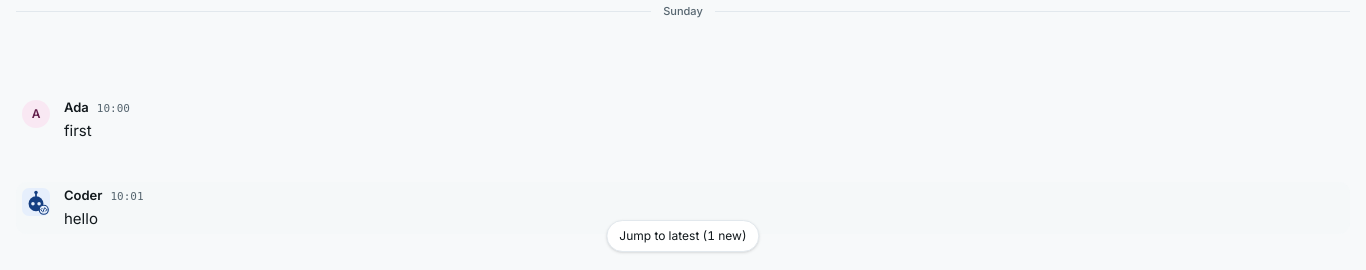
Test case: MessageList › counts new incoming messages while scrolled up and clears the count on jump
The image size is (1366, 270).
Click the button "Jump to latest (1 new)" at [683, 236], box [606, 220, 760, 252]
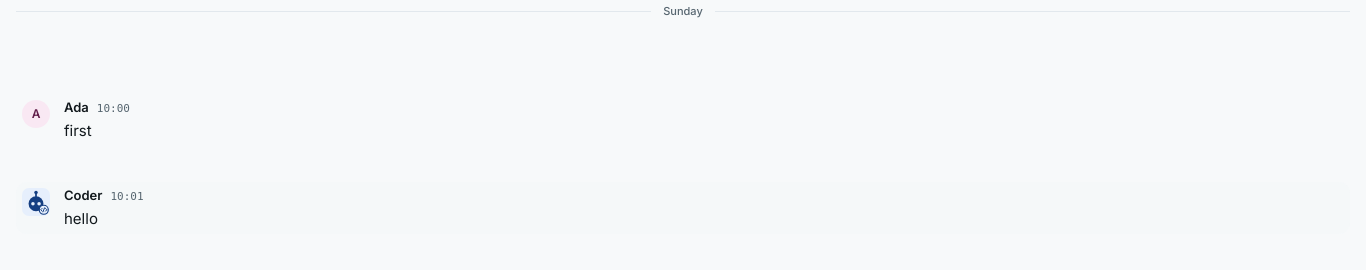
Expected: the button "Jump to latest" is gone
